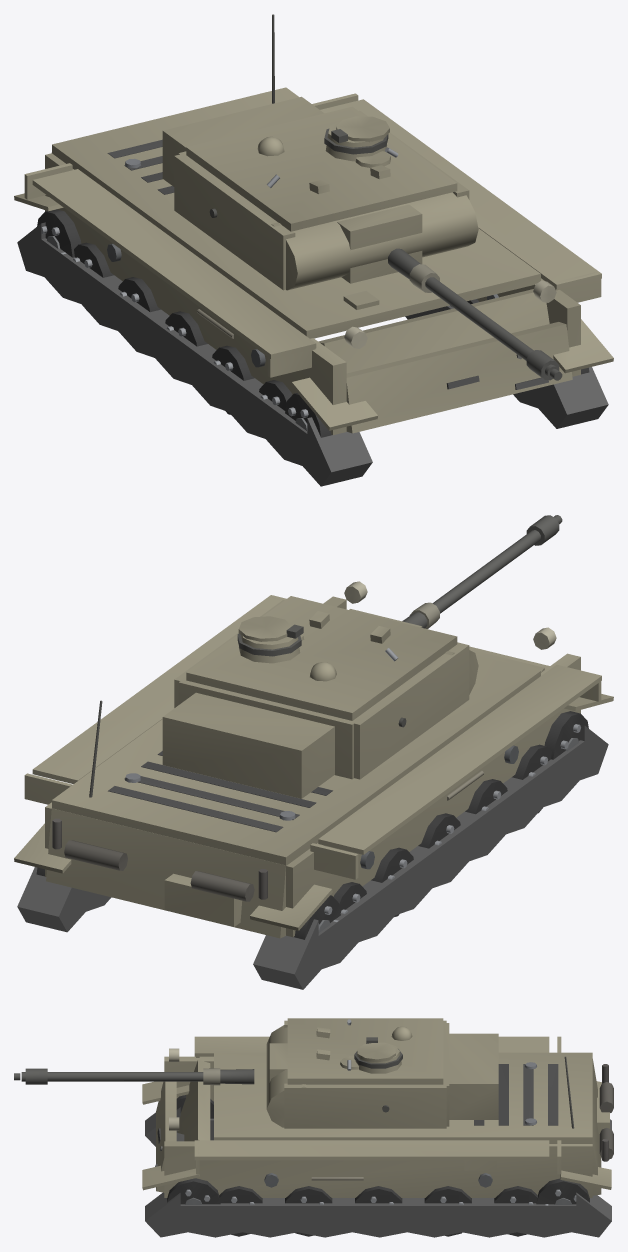
File: type10.glb
The picture shows the model from 3 angles, top to bottom: view 1: azimuth 30°, elevation 25°; view 2: azimuth 150°, elevation 25°; view 3: azimuth 270°, elevation 25°; orthographic projection. The views are drawn at different scales.
Visible parts, largest first — view 1: hullSide, tracks, hullTop, turretRoof, turretFront, lowerPlate, glacis, turretSide, barrel, mantlet, wheel6, wheel5 (+5 smaller); view 2: hullSide, hullTop, tracks, turretRoof, hullRear, turretFront, turretSide, turretRear, barrel, wheel5, wheel1, wheel6 (+3 smaller); view 3: hullSide, tracks, hullTop, turretRoof, turretSide, turretFront, barrel, hullRear, glacis, lowerPlate, wheel12, wheel13 (+7 smaller).
Boxes of the visible parts, x1,y1,x2,y2 form: hullSide: (24,93,601,435); tracks: (14,193,613,486); hullTop: (52,87,540,338); turretRoof: (186,106,457,231); turretFront: (162,96,478,290); lowerPlate: (346,322,572,433); glacis: (318,289,549,389); turretSide: (174,110,469,290); barrel: (388,248,562,380); mantlet: (337,204,422,283); wheel6: (37,209,81,257); wheel5: (285,393,331,437); hullSide: (24,581,601,937); hullTop: (52,655,540,865); tracks: (14,694,613,989); turretRoof: (186,596,457,720); hullRear: (46,700,286,938); turretFront: (162,650,478,798); turretSide: (174,600,469,779); turretRear: (178,677,358,779); barrel: (402,515,562,628); wheel5: (544,711,588,759); wheel1: (371,847,413,916); wheel6: (294,895,340,939); hullSide: (164,1036,592,1197); tracks: (142,1081,611,1237); hullTop: (214,1052,592,1143); turretRoof: (287,1018,443,1084); turretSide: (284,1020,446,1128); turretFront: (266,1025,498,1127); barrel: (14,1068,254,1085); hullRear: (564,1056,613,1195); glacis: (155,1060,210,1166); lowerPlate: (156,1081,176,1192); wheel12: (167,1178,220,1204); wheel13: (536,1178,589,1205).
Size of the model in its own units: 4.38 by 2.78 by 9.25.
